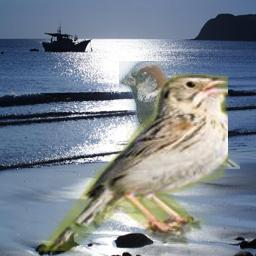Sparrow: (37, 74, 228, 254), (119, 61, 240, 169)
